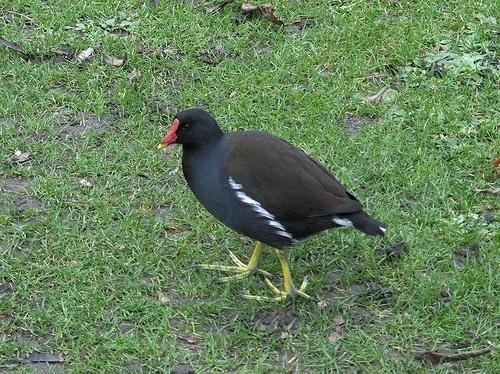bird: (157, 109, 389, 315)
